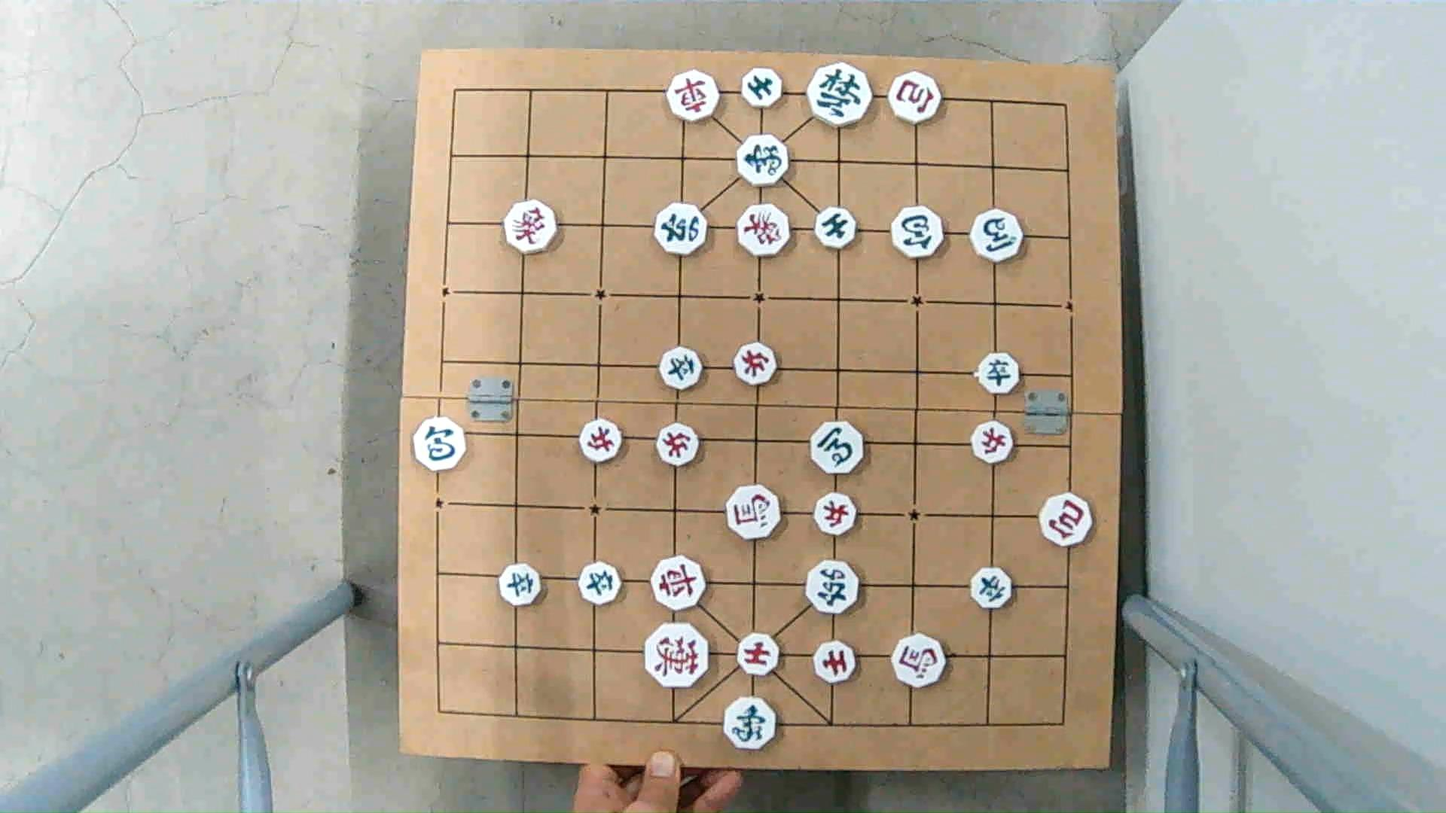cha_green: (808, 559, 859, 613), (654, 206, 710, 250)
cha_red: (667, 73, 722, 120), (651, 559, 704, 605)
jol_green: (660, 346, 703, 391), (576, 565, 625, 604), (976, 353, 1024, 391), (497, 564, 545, 602), (972, 569, 1015, 607)
jol_red: (653, 427, 701, 465), (732, 344, 780, 382), (813, 495, 859, 534), (968, 423, 1015, 461), (578, 422, 626, 459)
ma_green: (969, 210, 1023, 263), (807, 425, 865, 473)
ma_red: (893, 635, 947, 688), (727, 487, 783, 537)
po_green: (410, 420, 468, 469), (892, 210, 944, 259)
po_red: (1039, 495, 1094, 547), (890, 76, 939, 120)
sa_green: (814, 207, 856, 248), (742, 66, 783, 105)
sa_red: (738, 634, 781, 678), (816, 641, 855, 682)
sang_green: (738, 136, 789, 187), (727, 700, 773, 747)
sang_red: (504, 199, 557, 251), (739, 204, 791, 255)
wang_green: (804, 65, 874, 124)
wang_red: (646, 628, 706, 684)
